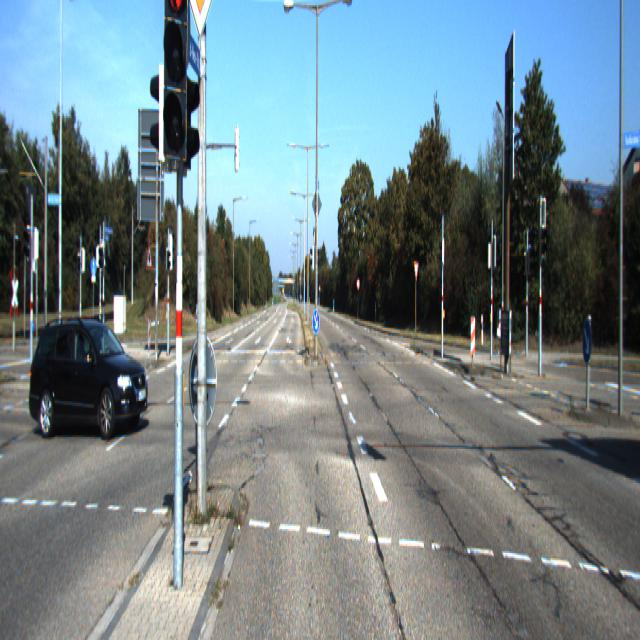Car: (25, 307, 153, 437)
